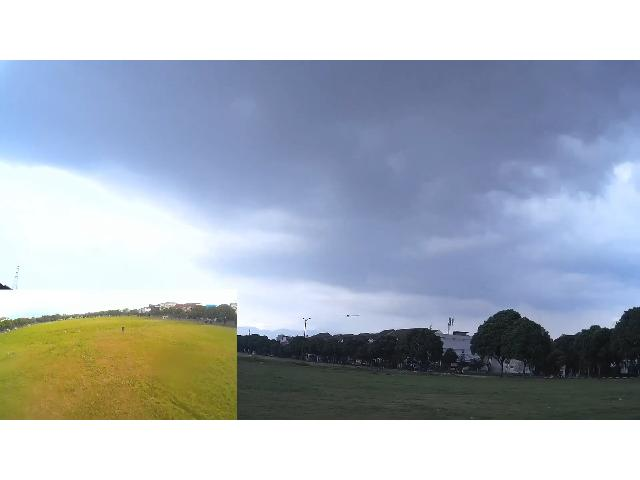Anti-Drone: (336, 310, 370, 320)
